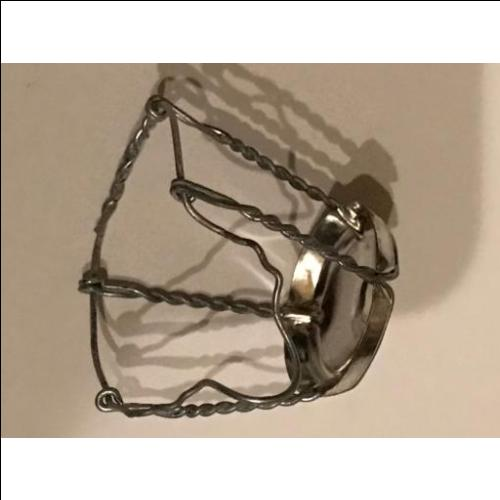metal: (282, 202, 401, 399)
